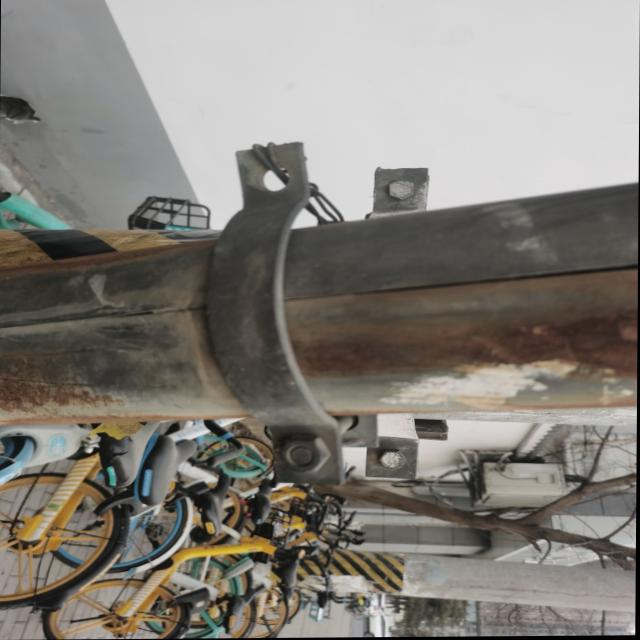Missing bolt: (251, 161, 297, 195)
Regular bolt: (281, 437, 329, 475), (388, 181, 414, 200), (380, 452, 407, 470)
